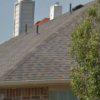Chimney: (7, 1, 66, 34)
